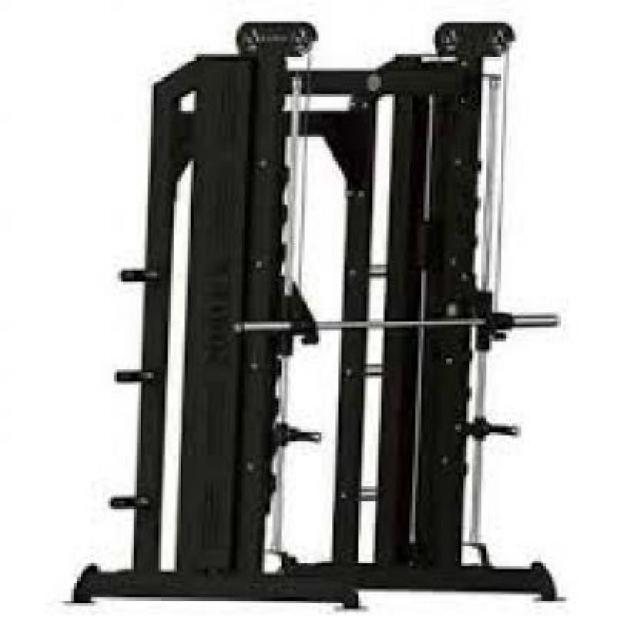smith machine: (69, 18, 568, 611)
